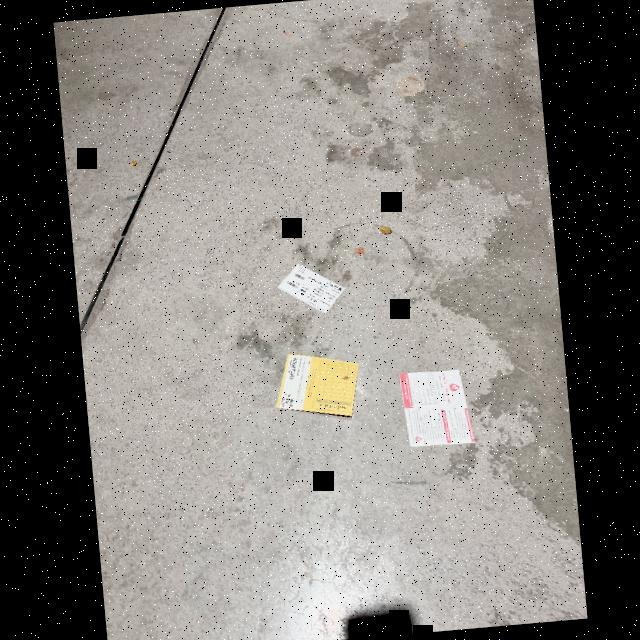scrap_paper: (385, 352, 485, 459), (268, 338, 376, 430), (268, 252, 350, 324)
